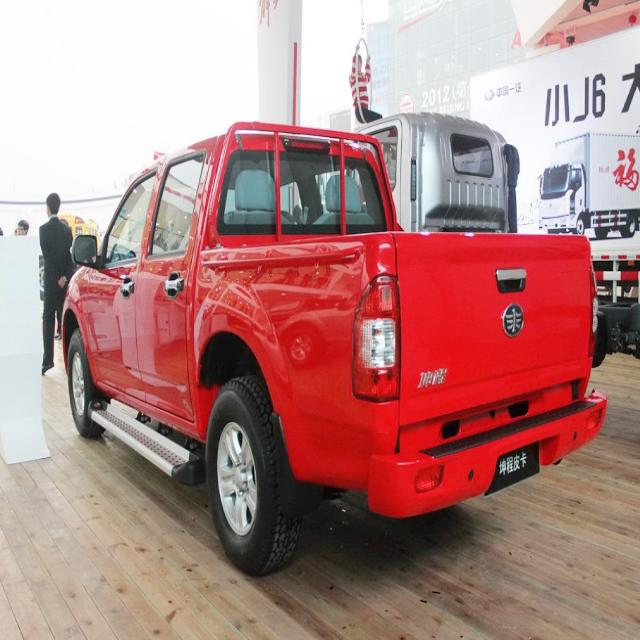back_glass: (217, 152, 387, 236)
back_left_side_light: (351, 273, 400, 400)
back_right_side_light: (587, 263, 599, 356)
door: (145, 153, 204, 406)
front_left_side_door: (89, 158, 164, 406)
front_left_side_mirror: (70, 231, 100, 271)
rear_bumper: (366, 386, 608, 520)
wheel: (206, 384, 298, 572), (67, 333, 101, 438)
